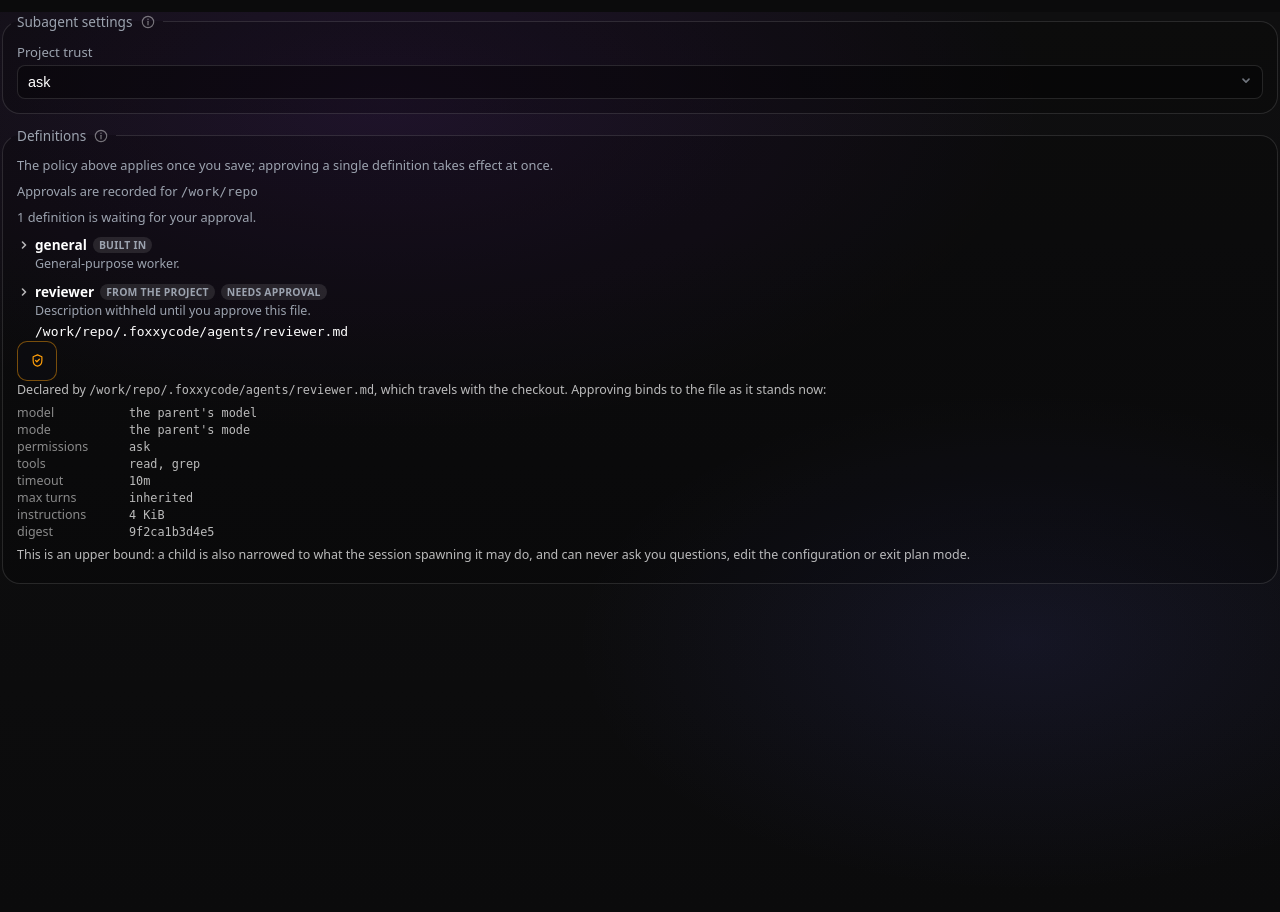
Test case: the chevron folds bounds while keeping approval available
The image size is (1280, 912).
expect the element with class "foxxycode-chevron" in the row of "from the project" is shown: met, box x1=17 y1=285 x2=31 y2=299
Click the button with test id "subagent-toggle-reviewer".
click(56, 292)  # box x1=17 y1=282 x2=94 y2=302
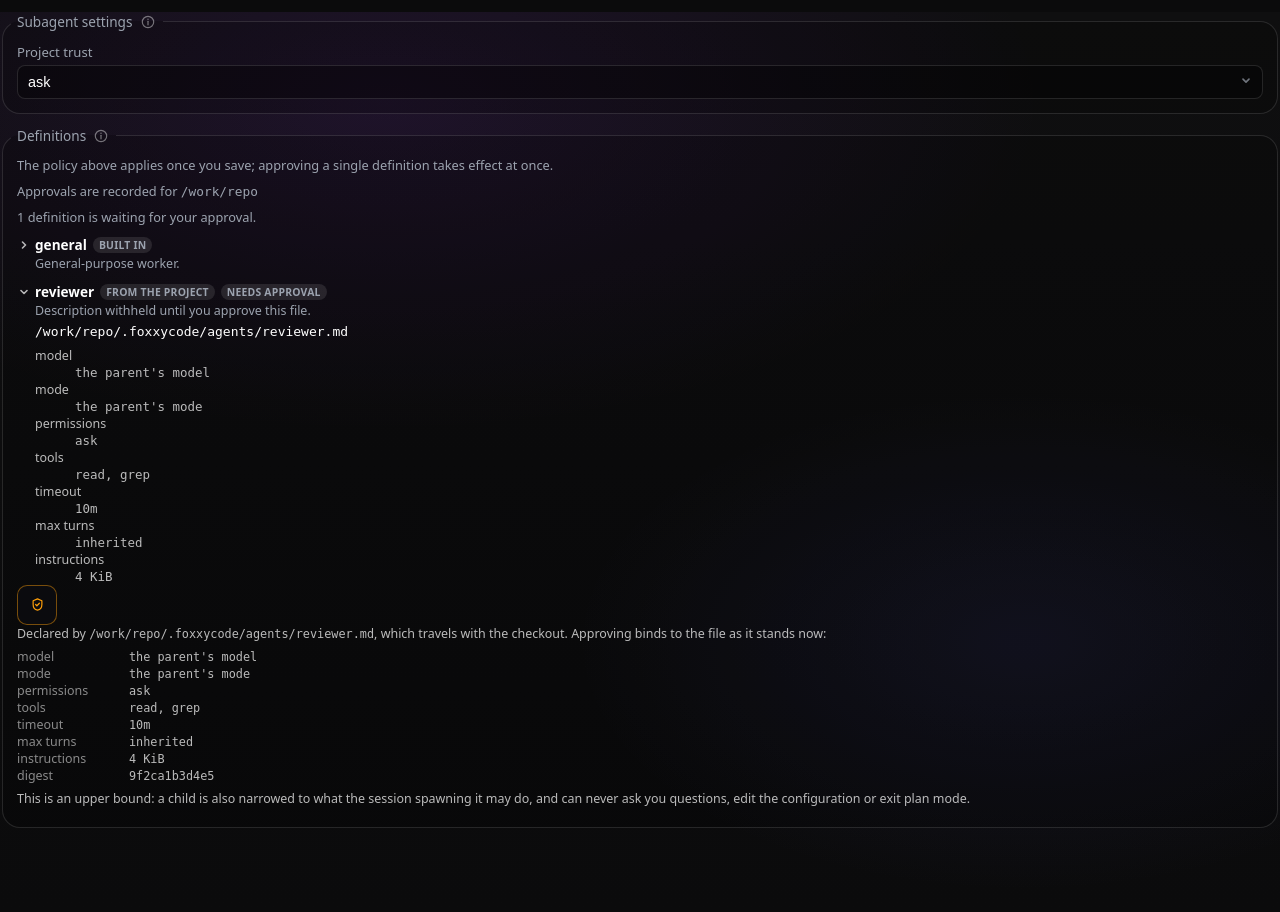
expect the button with test id "subagent-toggle-reviewer" is expanded: met, box x1=17 y1=282 x2=94 y2=302
expect the element with test id "subagent-declared-reviewer" is shown: met, box x1=35 y1=347 x2=210 y2=584
expect the element with test id "subagent-declared-reviewer" shows "read, grep": met, box x1=75 y1=467 x2=150 y2=482
